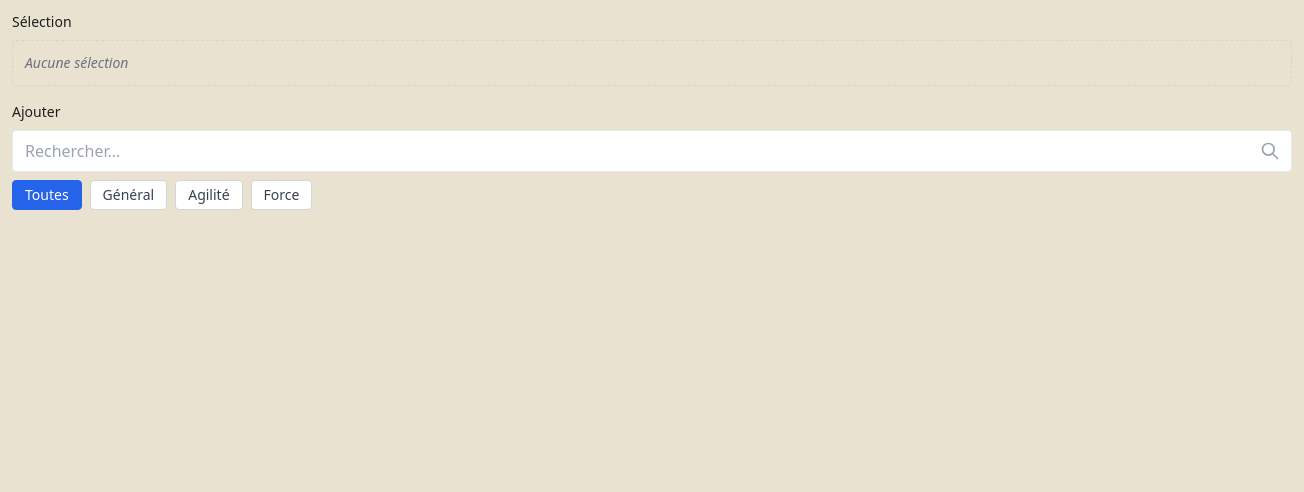
Test: ChipMultiSelect › dédoublonne les options par valeur
The image size is (1304, 492).
Focus the field with test id "pick-search" at point(652, 151), box [12,130,1292,172]
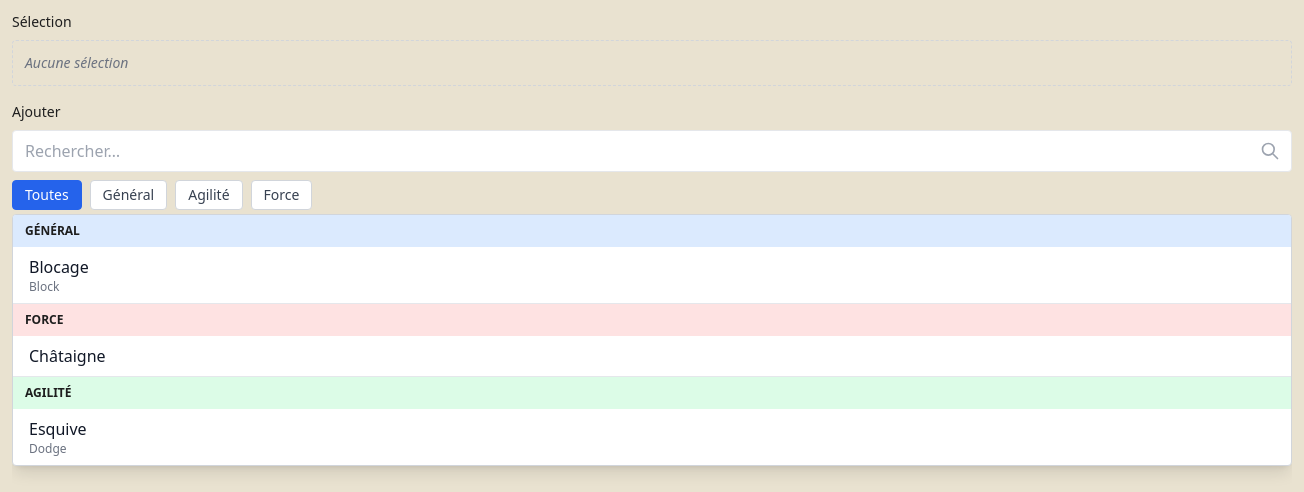
Expected: the number of buttons with test id "pick-option-block" is 1, [13,247,1291,303]
